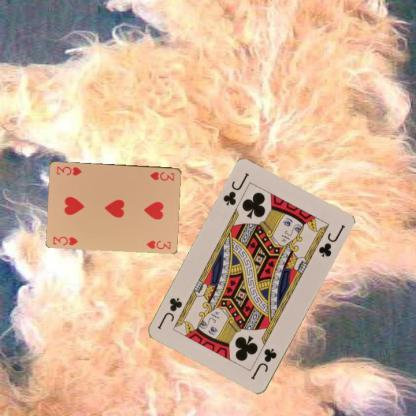3h: (147, 169, 176, 182), (51, 234, 79, 246)
Jc: (220, 170, 251, 207), (249, 345, 278, 382)
